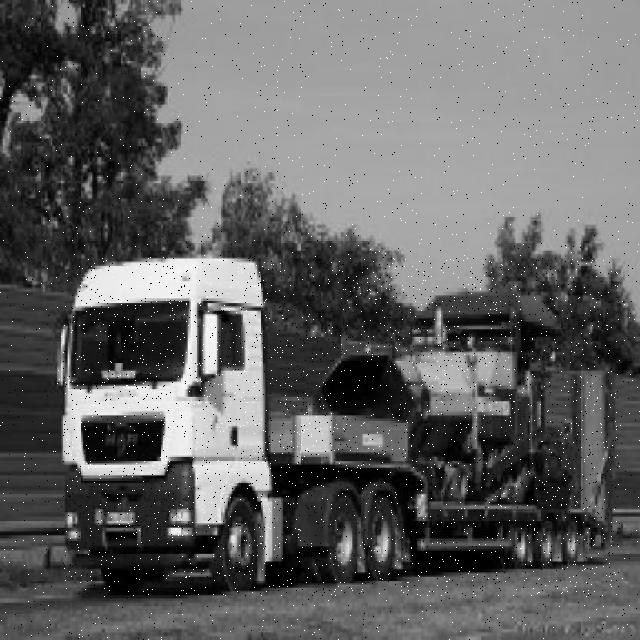Box Truck: (63, 258, 620, 596)
